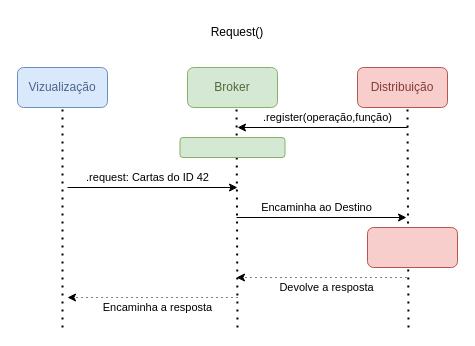
Image size: 475x346. Some labels were removed from this diagram. The box of each missing label's shape, as (x1, y1, x2, y2) in pixels:
Executa a função consulta a própria BD: (366, 226, 458, 268)
Guarda o registro: (179, 136, 285, 158)
